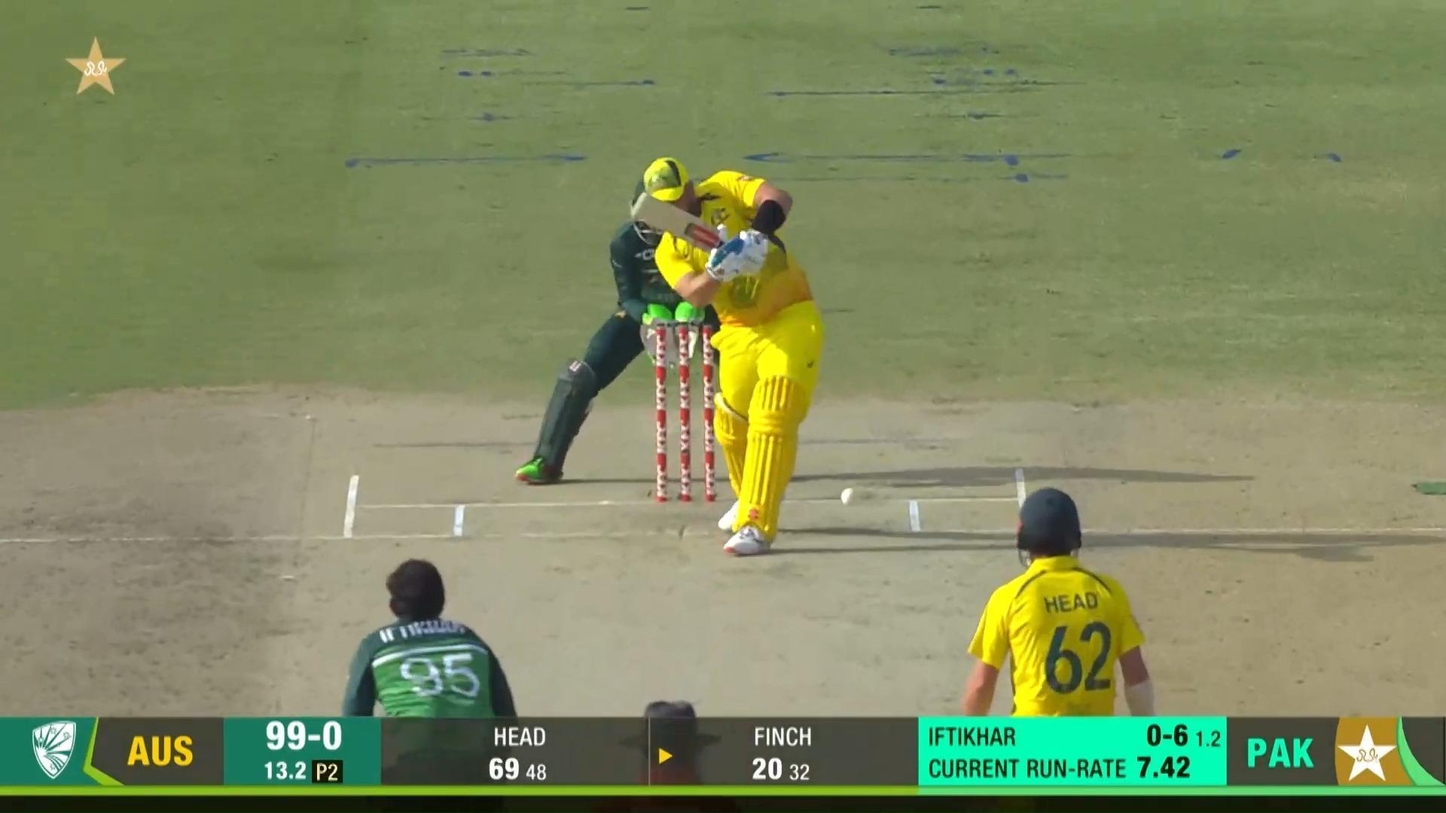BM 1: (627, 155, 825, 554)
BO: (339, 555, 523, 813)
